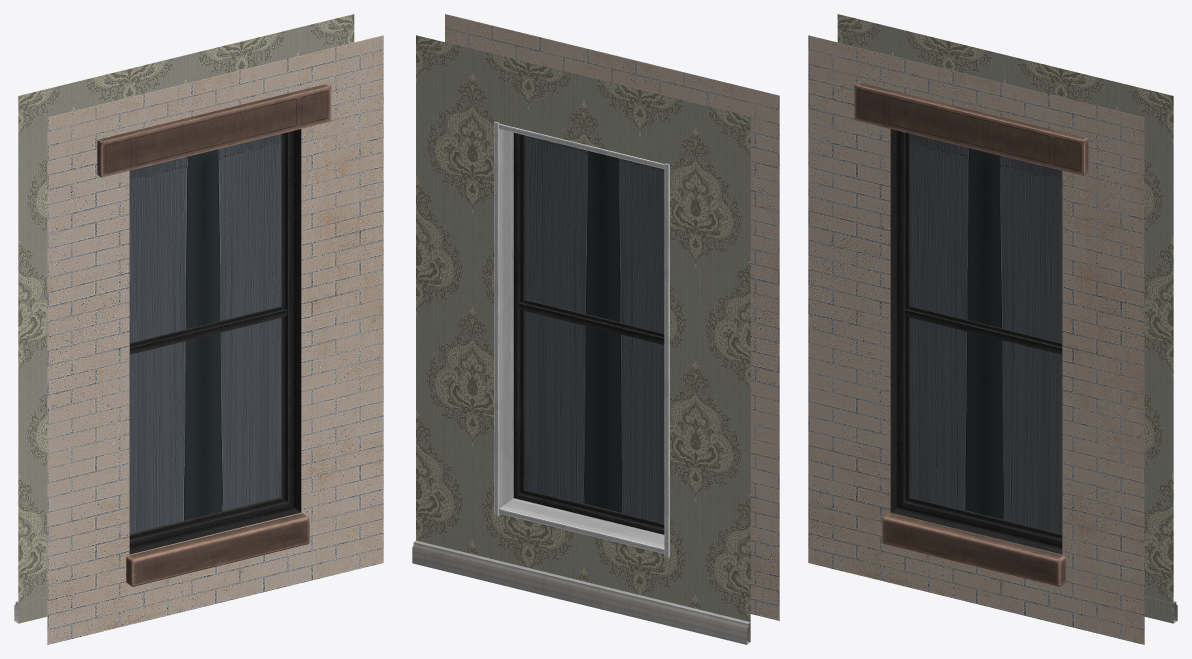
The model's file is House_06_Window_05.fbx.
The picture shows the model from 3 angles, left to right: view 1: azimuth 30°, elevation 25°; view 2: azimuth 150°, elevation 25°; view 3: azimuth 330°, elevation 25°; orthographic projection.
Parts seen in each view (by area): view 1: House_06_Window_05_LOD0; view 2: House_06_Window_05_LOD0; view 3: House_06_Window_05_LOD0.
Boxes of the visible parts, left/top/right/bottom form: House_06_Window_05_LOD0: left=14, top=14, right=383, bottom=644; House_06_Window_05_LOD0: left=412, top=14, right=779, bottom=644; House_06_Window_05_LOD0: left=808, top=14, right=1177, bottom=644.
Size of what is drawn, in the model's own units: 200 by 300 by 39.97.
